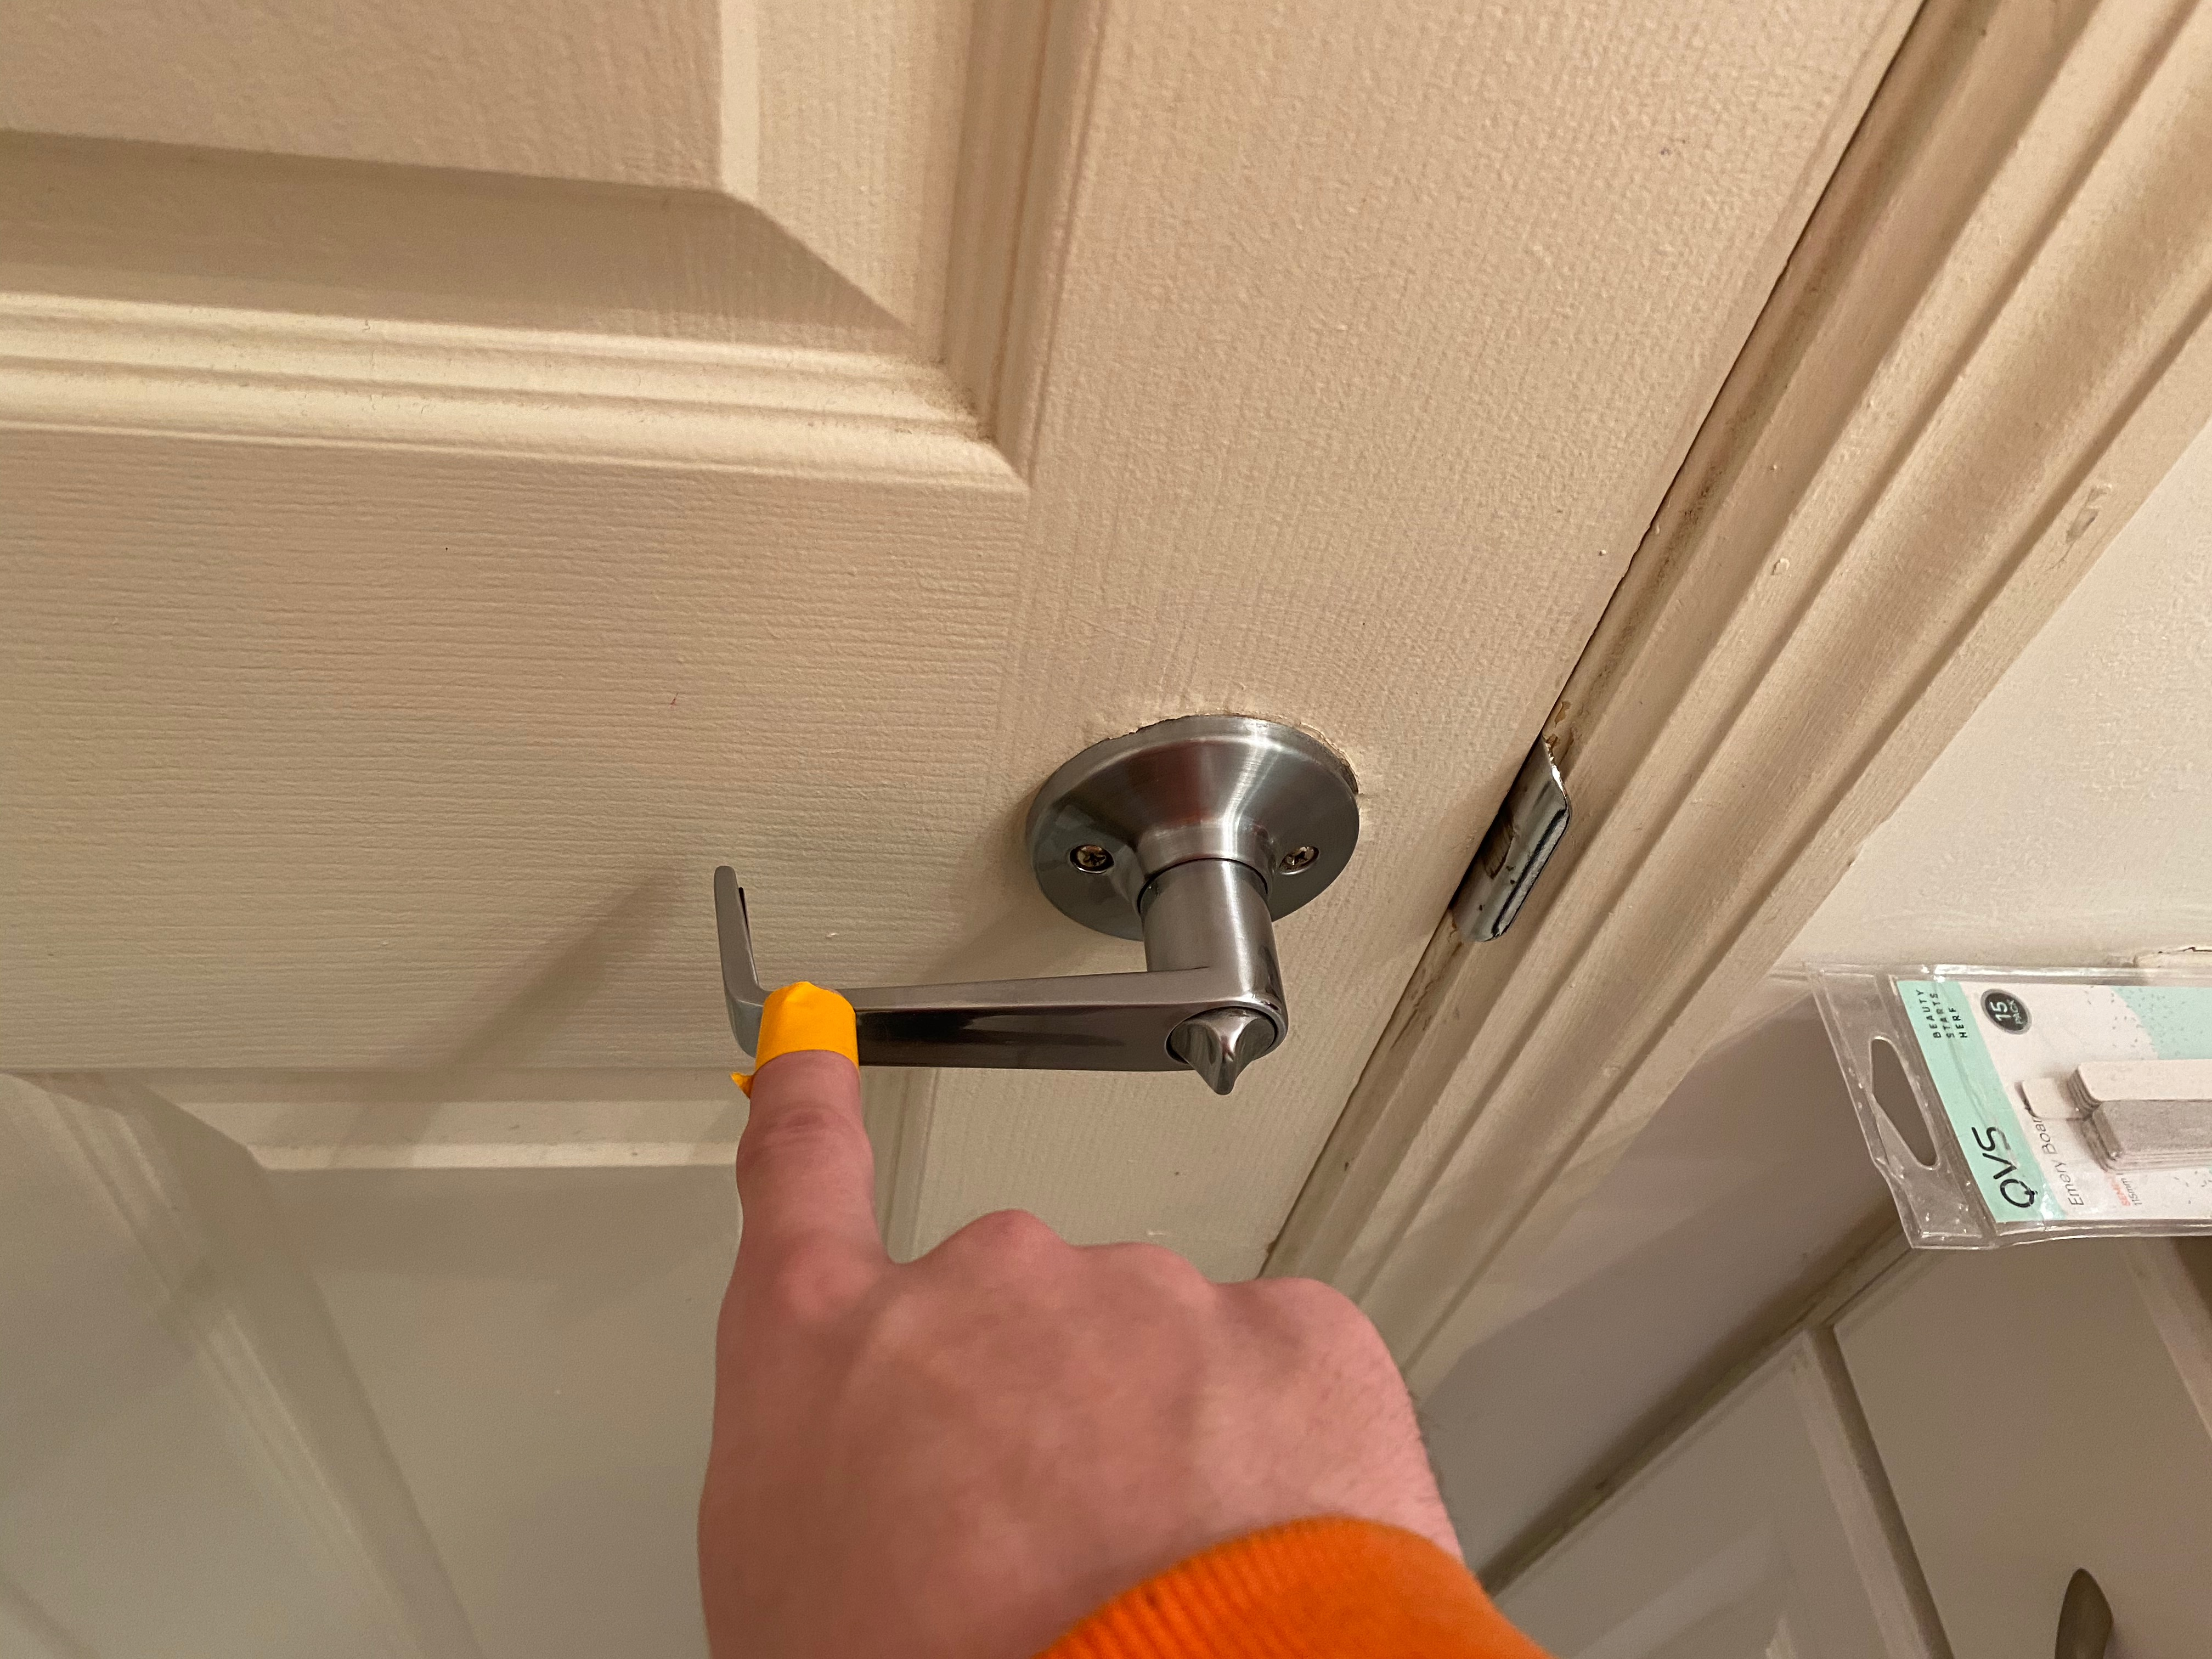fingertip: (740, 972, 895, 1089)
